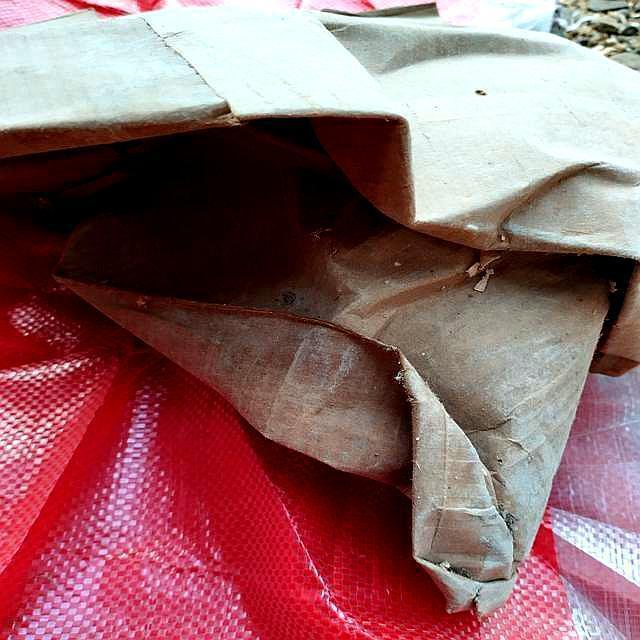Biodegradable: (1, 1, 640, 605)
